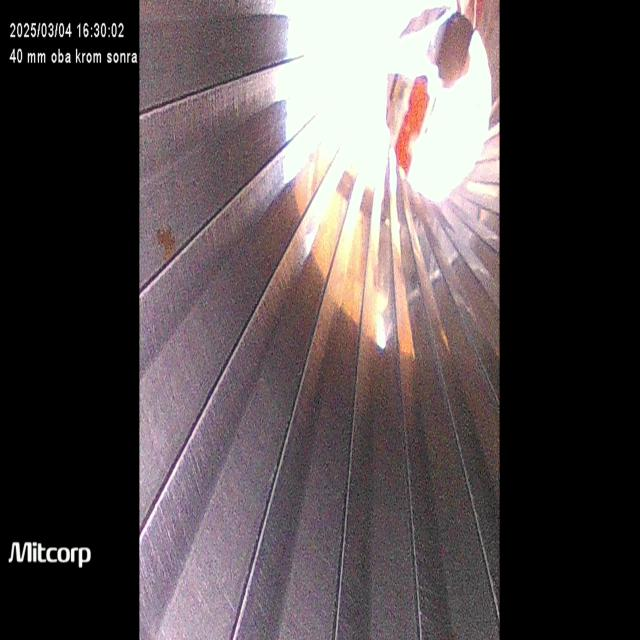hata_4.2: (152, 205, 187, 281)
